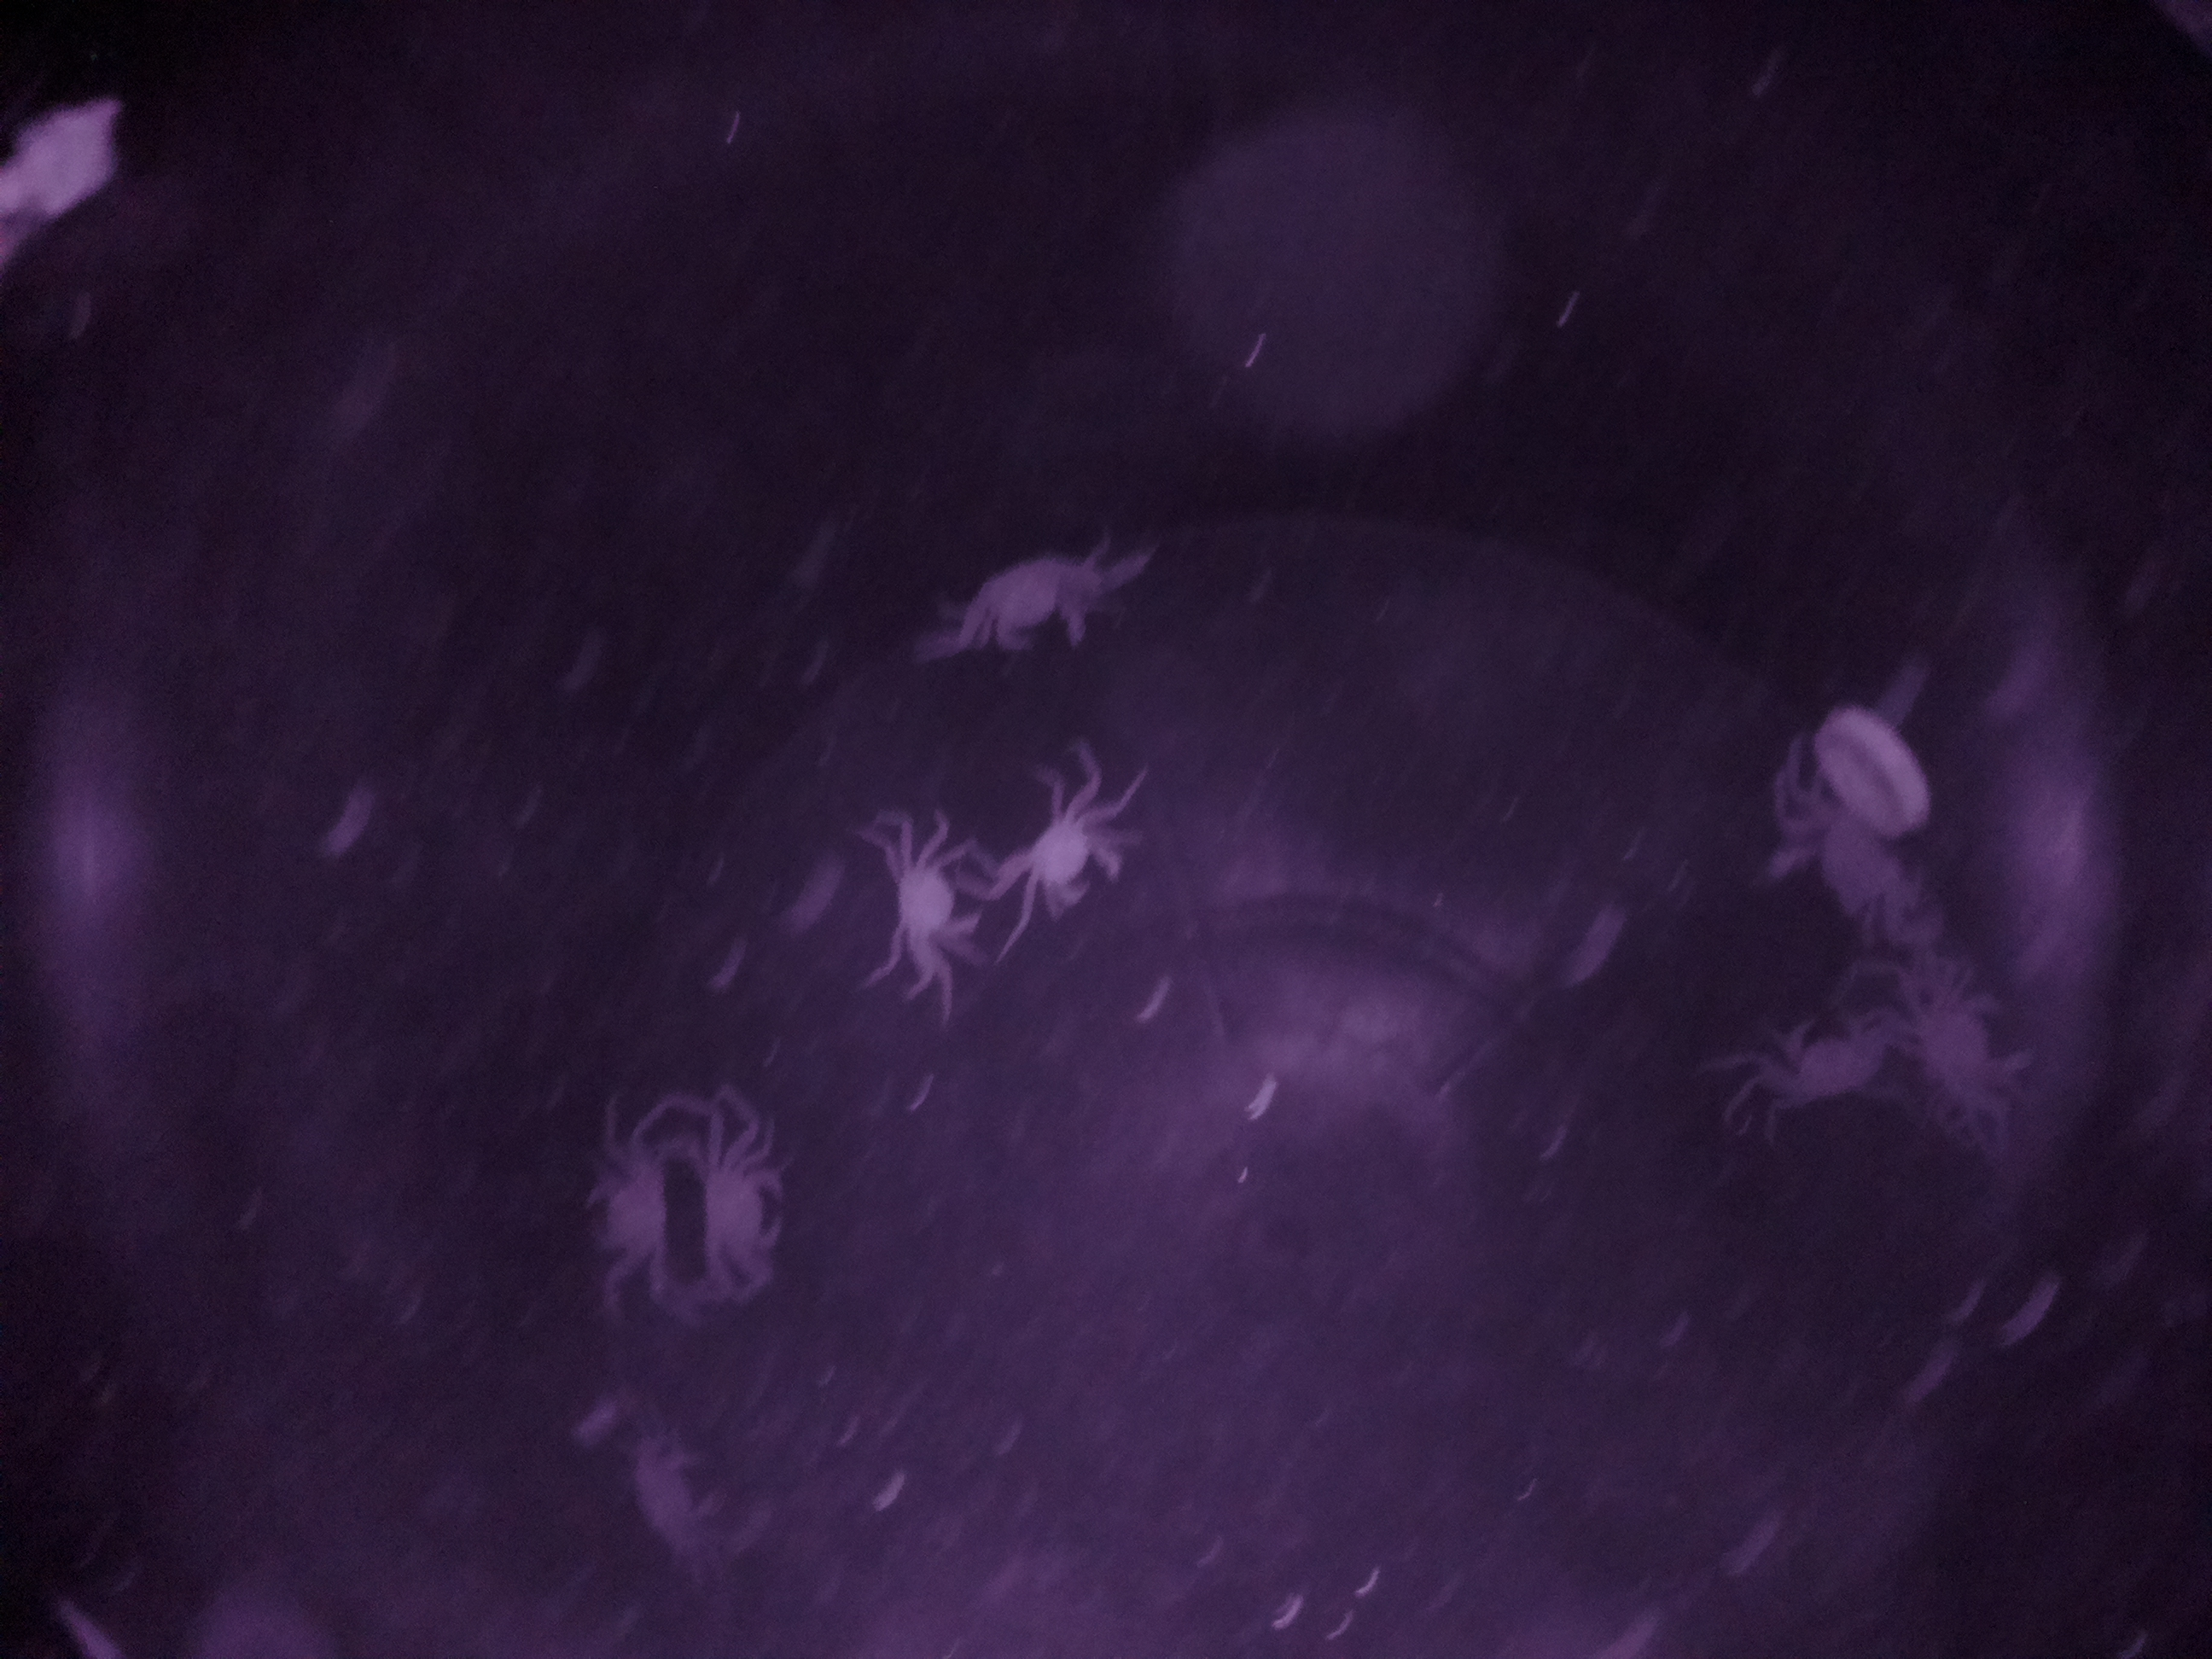Crab: (970, 760, 1162, 958), (841, 777, 989, 1018), (671, 1079, 819, 1290)
